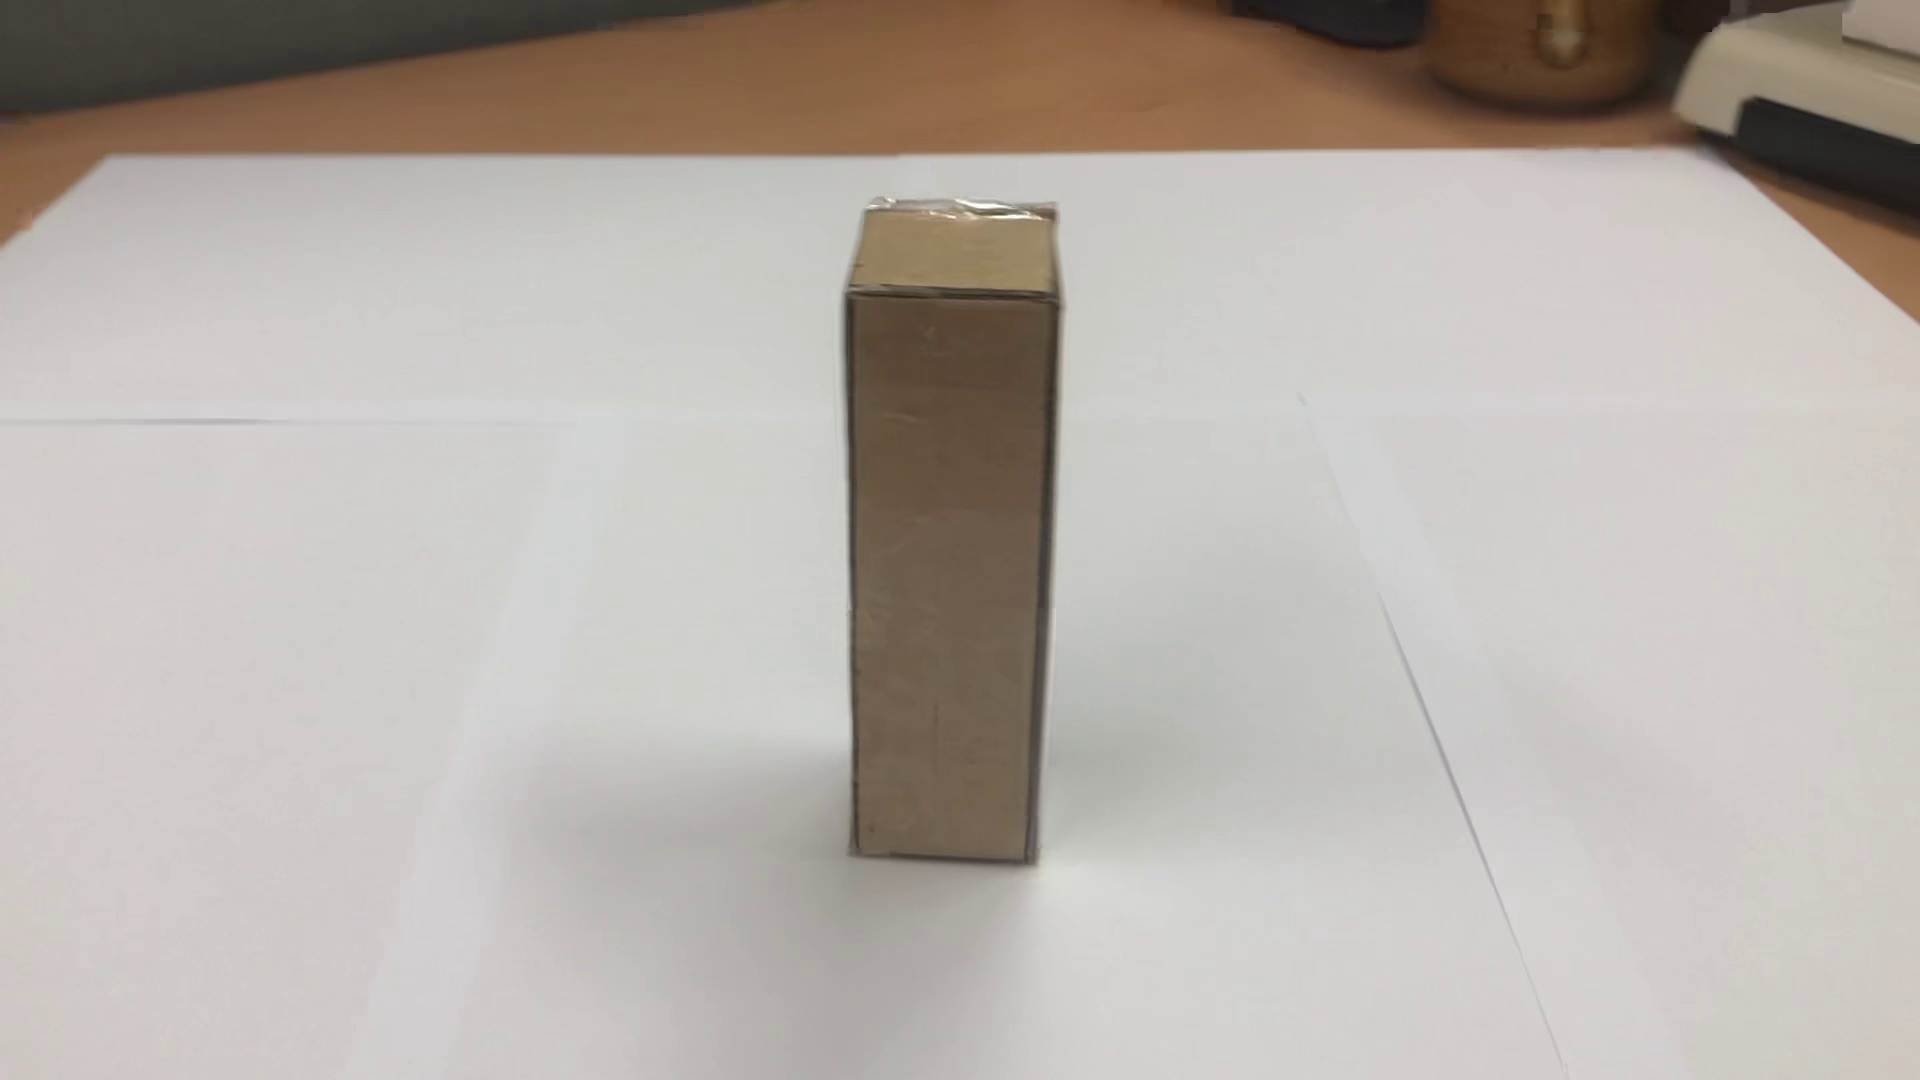box: (825, 185, 1088, 923)
